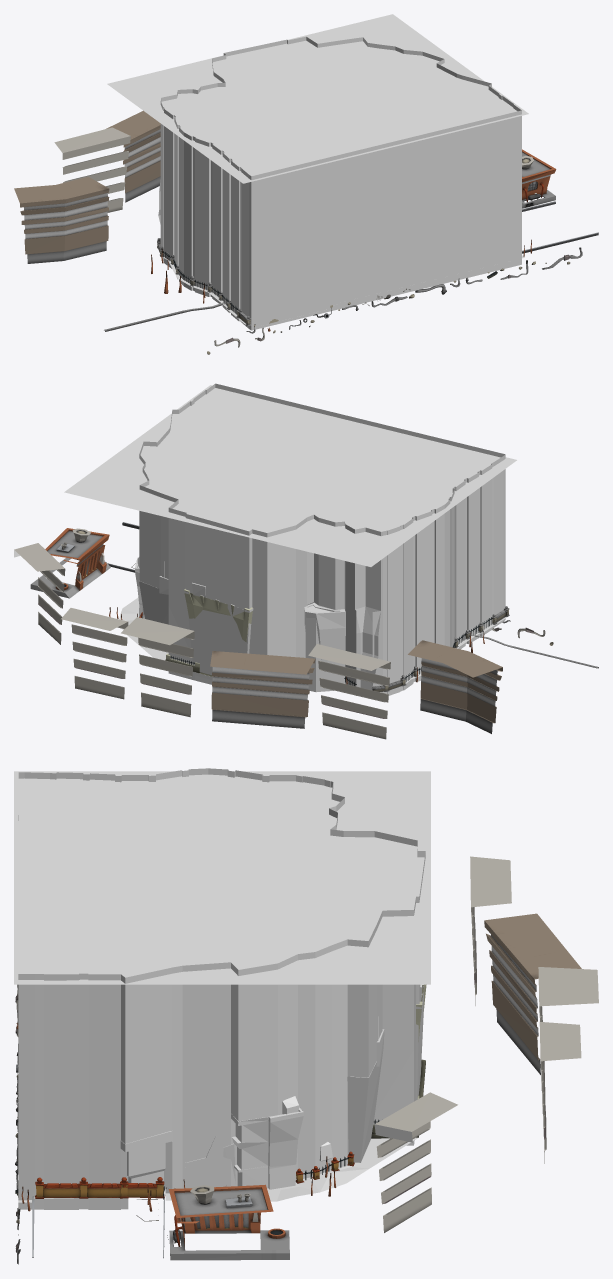
File: Bulletin_1.fbx
3 renders of one model, top to bottom at view 1: azimuth 30°, elevation 25°; view 2: azimuth 150°, elevation 25°; view 3: azimuth 270°, elevation 25°, orthographic. The views are drawn at different scales.
Visible parts, largest first — view 1: Bulletin_Col5, Bulletin_Col10, Bulletin_Baked1, Bulletin_Col20, Bulletin_Col25, Bulletin_Col24, Bulletin_Col26, Bulletin_Col8, Bulletin_Col23, Bulletin_Col17, Bulletin_Col16, Bulletin_Col6 (+14 smaller); view 2: Bulletin_Baked1, Bulletin_Col23, Bulletin_Col14, Bulletin_Col18, Bulletin_Col26, Bulletin_Col8, Bulletin_Col24, Bulletin_Col5, Bulletin_Col25, Bulletin_Col7, Bulletin_Col6, Bulletin_Col17 (+16 smaller); view 3: Bulletin_Col2, Bulletin_Baked1, Bulletin_Col3, Bulletin_Col8, Bulletin_Col1, Bulletin_Col23, Bulletin_Col17, Bulletin_Col15, Bulletin_Col16, Bulletin_Col18, Bulletin_Col5, Bulletin_Col7 (+13 smaller).
Boxes of the visible parts, bbox=[...] form: Bulletin_Col5: bbox=[303, 89, 521, 264]; Bulletin_Col10: bbox=[303, 106, 521, 317]; Bulletin_Baked1: bbox=[14, 110, 556, 263]; Bulletin_Col20: bbox=[209, 141, 314, 330]; Bulletin_Col25: bbox=[178, 132, 224, 303]; Bulletin_Col24: bbox=[222, 153, 251, 329]; Bulletin_Col26: bbox=[160, 107, 183, 285]; Bulletin_Col8: bbox=[284, 14, 395, 73]; Bulletin_Col23: bbox=[107, 66, 217, 224]; Bulletin_Col17: bbox=[212, 74, 317, 116]; Bulletin_Col16: bbox=[247, 99, 351, 141]; Bulletin_Col6: bbox=[352, 64, 460, 123]; Bulletin_Baked1: bbox=[14, 528, 502, 739]; Bulletin_Col23: bbox=[294, 518, 407, 695]; Bulletin_Col14: bbox=[168, 508, 249, 684]; Bulletin_Col18: bbox=[218, 503, 326, 691]; Bulletin_Col26: bbox=[388, 505, 444, 695]; Bulletin_Col8: bbox=[65, 468, 252, 660]; Bulletin_Col24: bbox=[468, 454, 508, 643]; Bulletin_Col5: bbox=[180, 383, 449, 443]; Bulletin_Col25: bbox=[444, 478, 474, 649]; Bulletin_Col7: bbox=[101, 457, 290, 622]; Bulletin_Col6: bbox=[138, 430, 325, 457]; Bulletin_Col17: bbox=[254, 476, 366, 609]; Bulletin_Col2: bbox=[88, 931, 230, 1209]; Bulletin_Baked1: bbox=[167, 856, 598, 1260]; Bulletin_Col3: bbox=[166, 931, 325, 1201]; Bulletin_Col8: bbox=[315, 878, 430, 1183]; Bulletin_Col1: bbox=[14, 931, 120, 1209]; Bulletin_Col23: bbox=[324, 771, 430, 829]; Bulletin_Col17: bbox=[222, 824, 326, 877]; Bulletin_Col15: bbox=[14, 824, 118, 877]; Bulletin_Col16: bbox=[118, 824, 222, 877]; Bulletin_Col18: bbox=[326, 824, 430, 877]; Bulletin_Col5: bbox=[14, 815, 118, 984]; Bulletin_Col7: bbox=[222, 878, 326, 1191].
Bounding box in the file's own units: 528 × 179 × 370.
35 materials, 7 textured.
